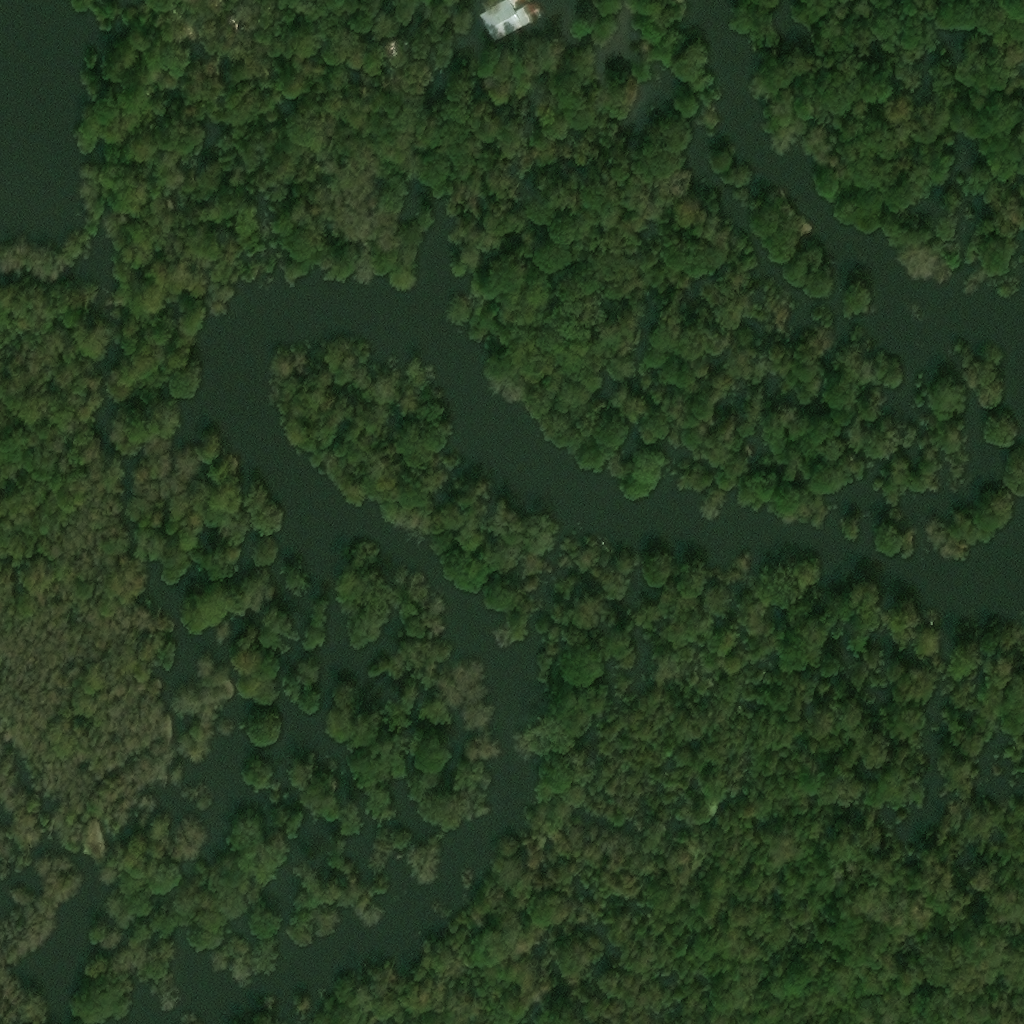major_damage: (478, 0, 544, 43)
unclassified: (75, 971, 132, 1014)
